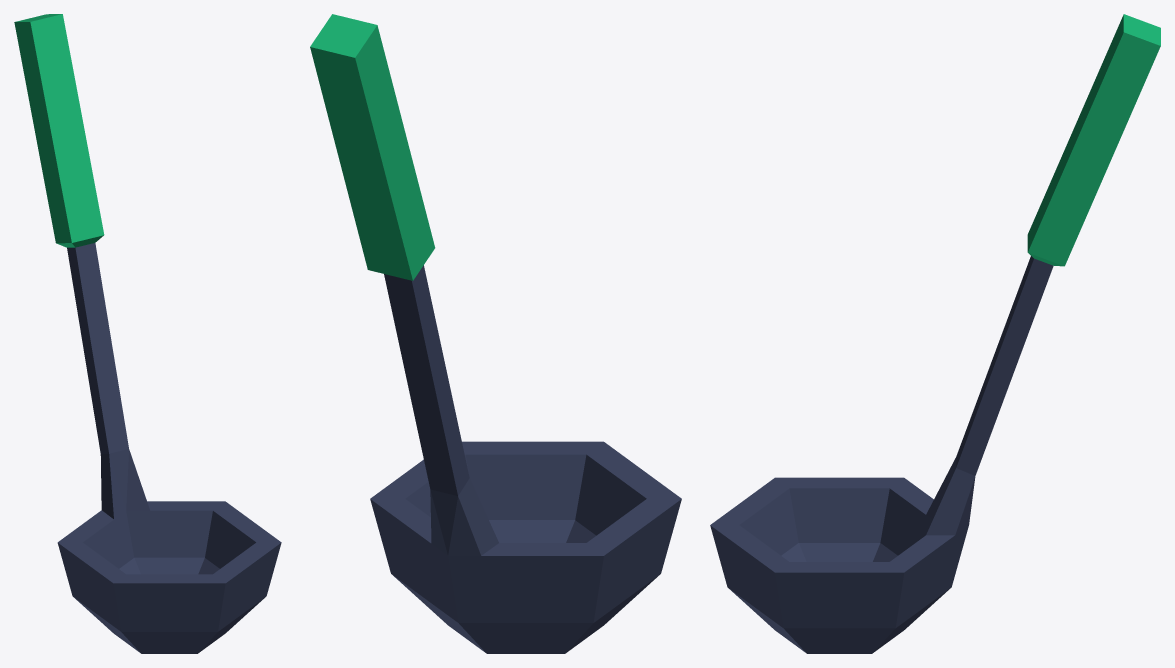
Rendered from ladle1_PLY.fbx.
3 renders of one model, left to right at view 1: azimuth 30°, elevation 25°; view 2: azimuth 150°, elevation 25°; view 3: azimuth 270°, elevation 25°, orthographic. The views are drawn at different scales.
Visible parts, largest first — view 1: ladle1_PLY; view 2: ladle1_PLY; view 3: ladle1_PLY.
Part boxes in pixels (box(x1,y1,x2,y2)): ladle1_PLY: box(14, 14, 281, 653); ladle1_PLY: box(310, 14, 681, 653); ladle1_PLY: box(710, 14, 1160, 653).
Bounding box in the file's own units: 0.433 × 1.33 × 0.8703.
